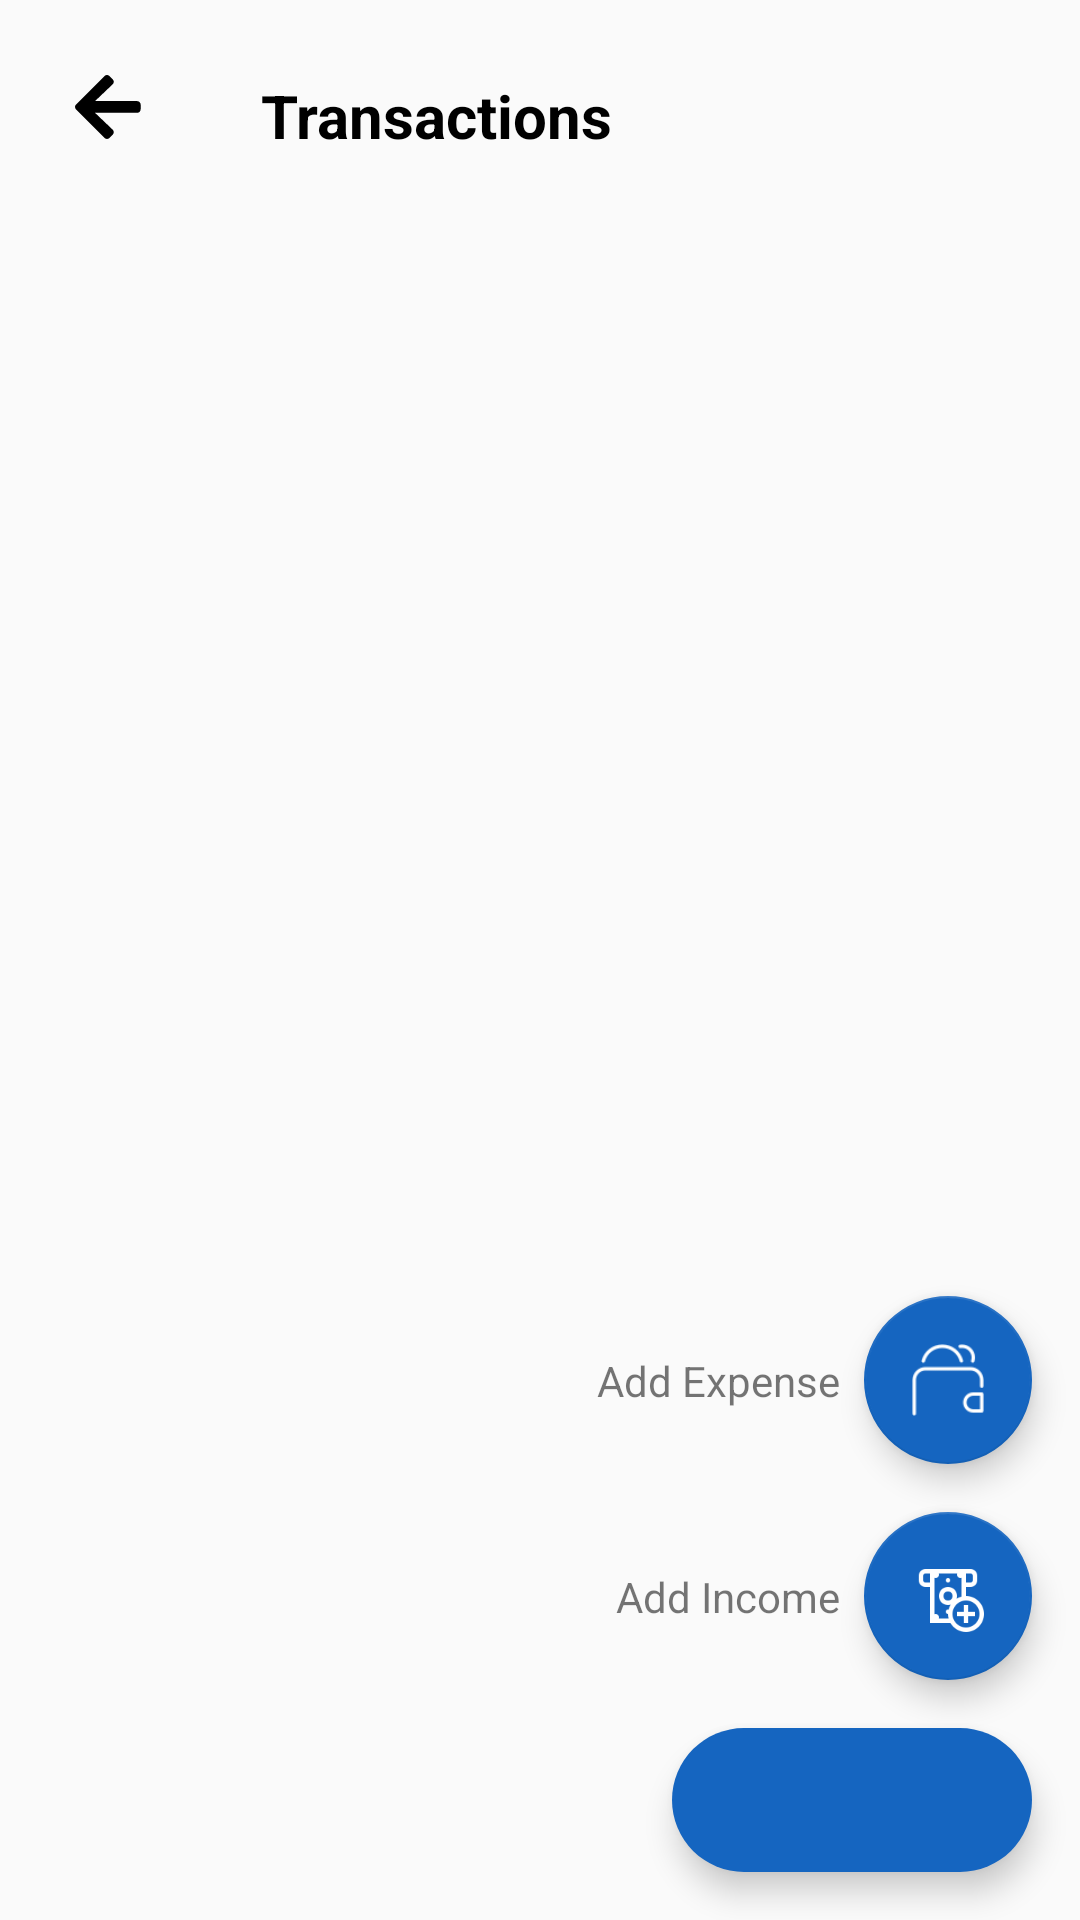

Icon click points for this 1080w x 1920h phone screenshot, format point (x, y):
back arrow: point (108, 107)
